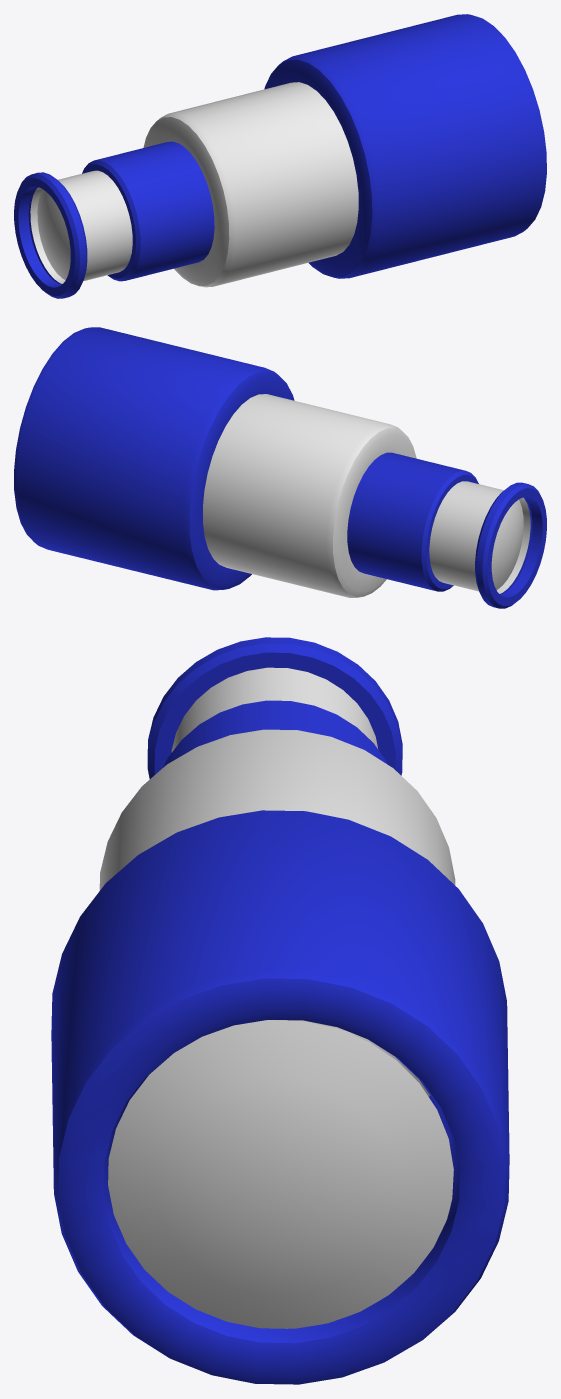
File: _telescope.glb
3 views of the same model, one above another, from view 1: azimuth 30°, elevation 25°; view 2: azimuth 150°, elevation 25°; view 3: azimuth 270°, elevation 25° (orthographic). The views are drawn at different scales.
Visible parts, largest first — view 1: telescope_9; view 2: telescope_9; view 3: telescope_9.
Boxes of the visible parts, <box> form: telescope_9: <box>14,14,546,298</box>; telescope_9: <box>14,327,546,608</box>; telescope_9: <box>51,637,509,1384</box>.
Bounding box in the file's own units: 0.815 × 0.3576 × 0.3581.
